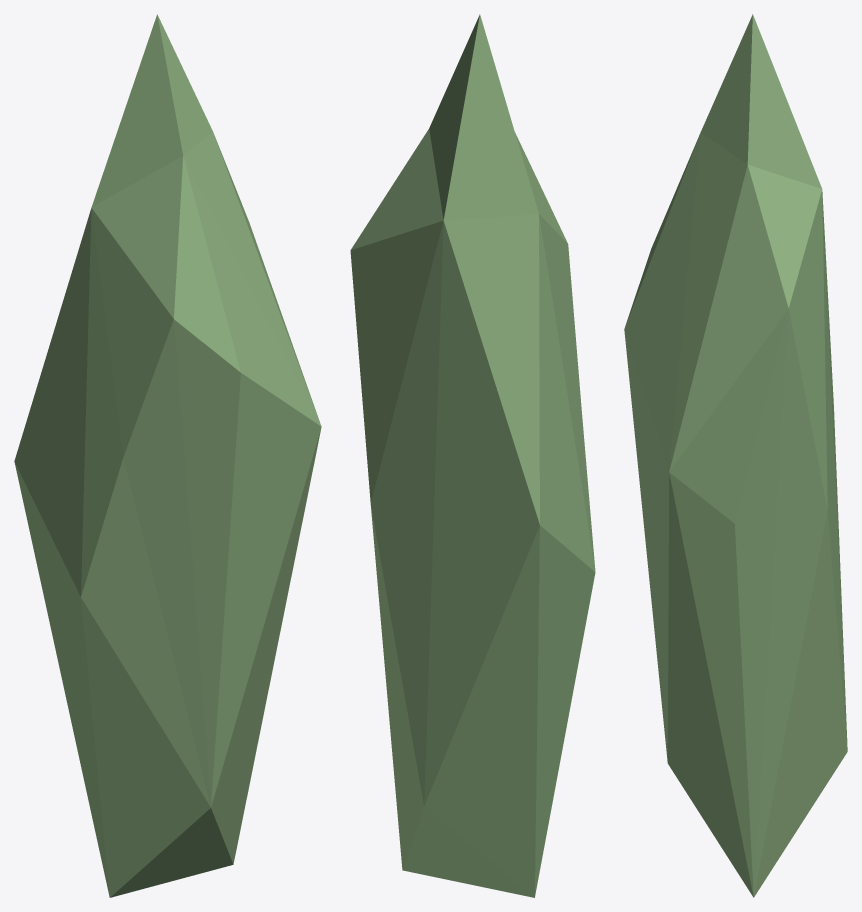
File: Bush_2.fbx
3 renders of one model, left to right at view 1: azimuth 30°, elevation 25°; view 2: azimuth 150°, elevation 25°; view 3: azimuth 270°, elevation 25°, orthographic. The views are drawn at different scales.
Visible parts, largest first — view 1: Bush_2; view 2: Bush_2; view 3: Bush_2.
Boxes of the visible parts, <box> form: Bush_2: <box>14,14,321,897</box>; Bush_2: <box>350,14,595,897</box>; Bush_2: <box>624,14,847,897</box>.
Size of the model in its own units: 40.88 by 153 by 36.46.
1 material, 1 textured.
